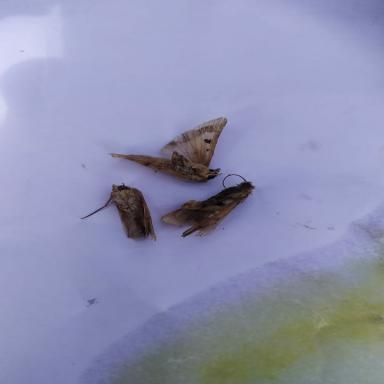abw: (106, 117, 227, 182), (160, 174, 256, 237), (79, 183, 155, 241)
